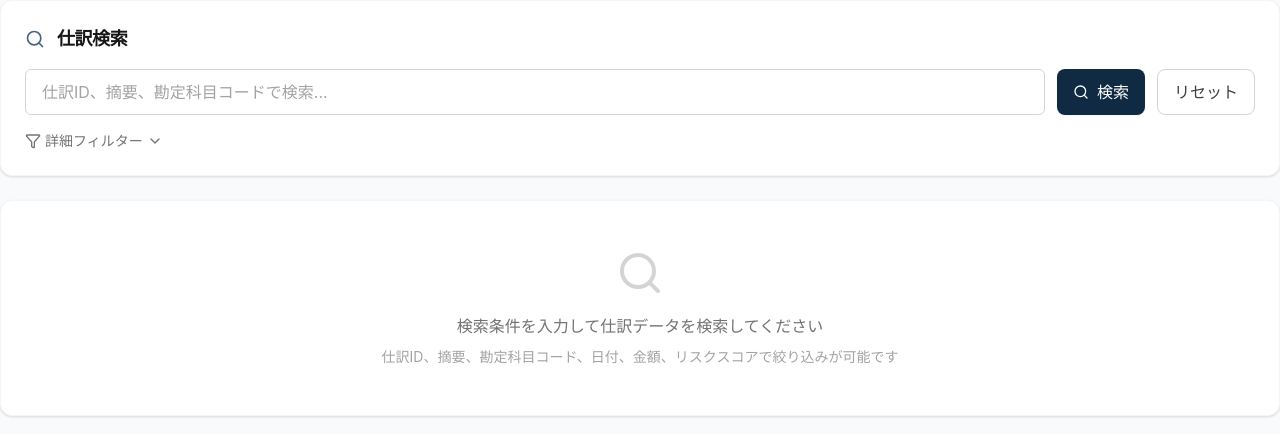
Scenario: SearchPage › submits search and shows results
Type "JE001" into the field with placeholder "仕訳ID、摘要、勘定科目コードで検索..." at (535, 92), box [25,69,1045,115]
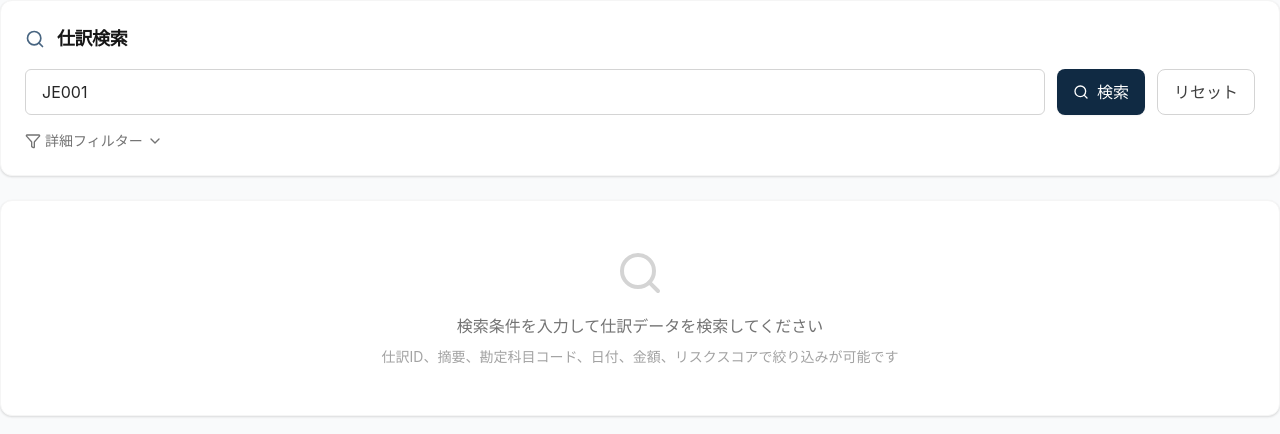
Submit the form with placeholder "仕訳ID、摘要、勘定科目コードで検索...", box [0,0,1279,176]
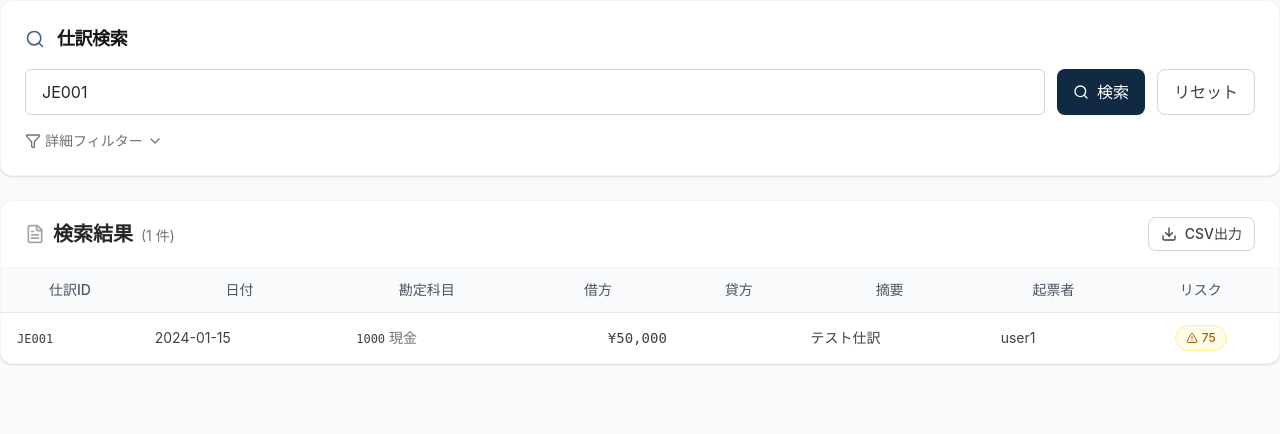
Expected: the text "JE001" is shown, [17,332,53,346]
Expected: the heading "検索結果(1 件)" is shown, [53,220,175,248]
Expected: the text "テスト仕訳" is shown, [811,329,881,346]
